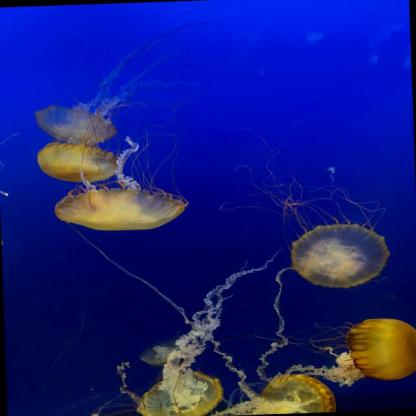jellyfish: (290, 223, 389, 289), (55, 187, 187, 233), (348, 317, 415, 380), (137, 370, 224, 416), (37, 141, 122, 184), (35, 104, 116, 146), (259, 374, 337, 414)
